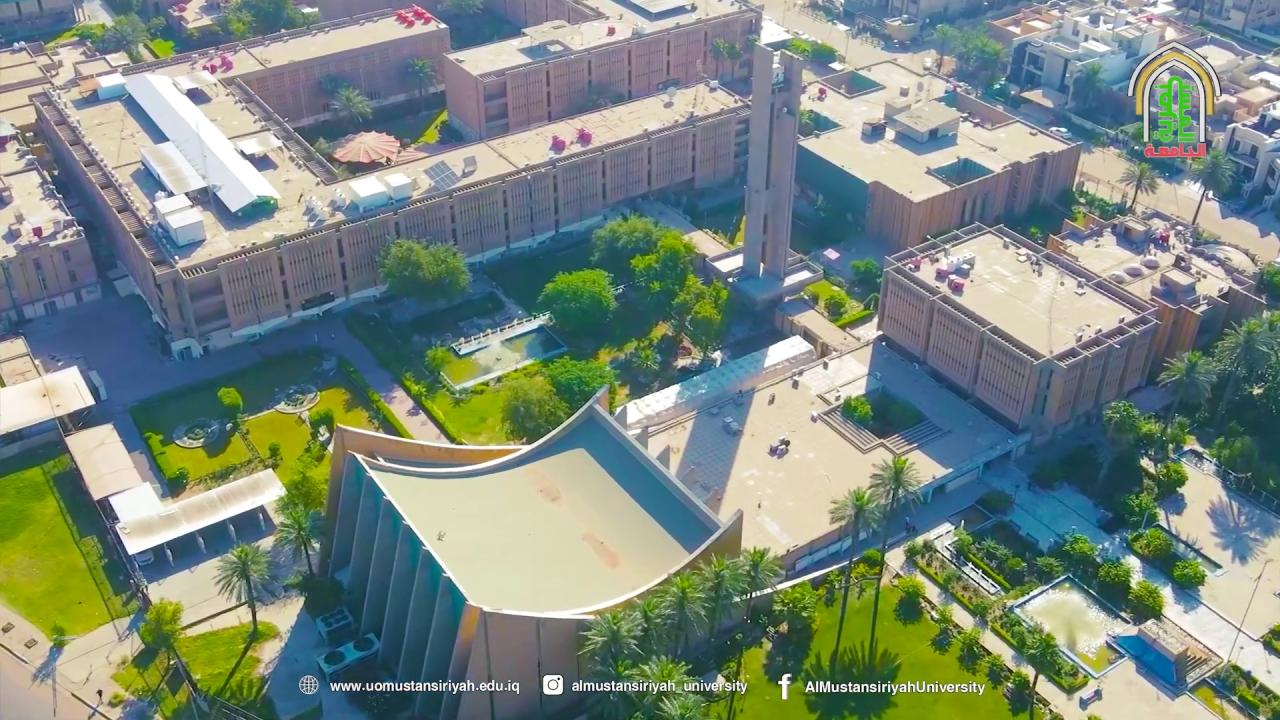car: (1048, 126, 1071, 139)
fountain: (1008, 574, 1136, 678), (446, 308, 554, 356)
person: (95, 688, 104, 706), (904, 515, 911, 533)
tree: (576, 544, 786, 718), (864, 453, 923, 664), (825, 485, 885, 680), (724, 544, 783, 716), (587, 207, 695, 288), (799, 637, 902, 719), (136, 597, 198, 715), (375, 234, 472, 304), (211, 541, 272, 639), (534, 267, 618, 337), (623, 653, 708, 719), (1009, 620, 1063, 718), (496, 373, 570, 444), (649, 570, 709, 657), (689, 550, 746, 639), (575, 606, 645, 677), (670, 272, 730, 354), (541, 354, 621, 414), (1205, 493, 1269, 564), (1210, 313, 1272, 386), (628, 242, 694, 308), (1154, 348, 1217, 416), (1184, 146, 1236, 226), (734, 545, 784, 622), (827, 485, 884, 547), (272, 503, 319, 575), (137, 597, 185, 665), (867, 453, 922, 512), (343, 365, 386, 432), (1205, 419, 1255, 475), (950, 20, 999, 73), (102, 12, 151, 63), (620, 323, 666, 373), (278, 470, 327, 514), (1117, 159, 1156, 213), (888, 572, 926, 626), (300, 574, 344, 619), (1101, 399, 1143, 444), (331, 83, 373, 124), (1073, 60, 1107, 110), (406, 56, 435, 113), (1126, 579, 1164, 622), (952, 626, 986, 674), (1129, 527, 1172, 562), (710, 37, 744, 81), (142, 430, 171, 481), (1062, 529, 1098, 570), (1124, 489, 1159, 531), (222, 1, 256, 41), (932, 22, 958, 73), (1095, 556, 1132, 589), (1154, 459, 1188, 493), (1170, 556, 1206, 588), (840, 393, 873, 427), (422, 341, 453, 377), (1028, 459, 1064, 490), (979, 487, 1014, 516), (216, 385, 243, 422), (1032, 554, 1065, 583), (306, 406, 335, 438), (365, 388, 385, 432), (951, 526, 973, 565), (849, 257, 879, 285), (437, 0, 484, 16), (970, 597, 993, 629), (47, 619, 68, 649), (1225, 662, 1244, 695), (145, 14, 166, 38), (266, 441, 283, 470), (174, 465, 190, 489), (1027, 224, 1043, 243)
